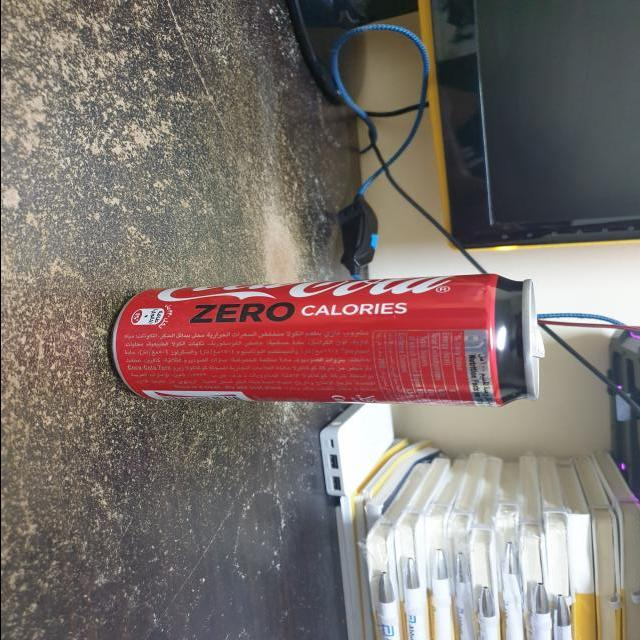can: (105, 275, 536, 408)
